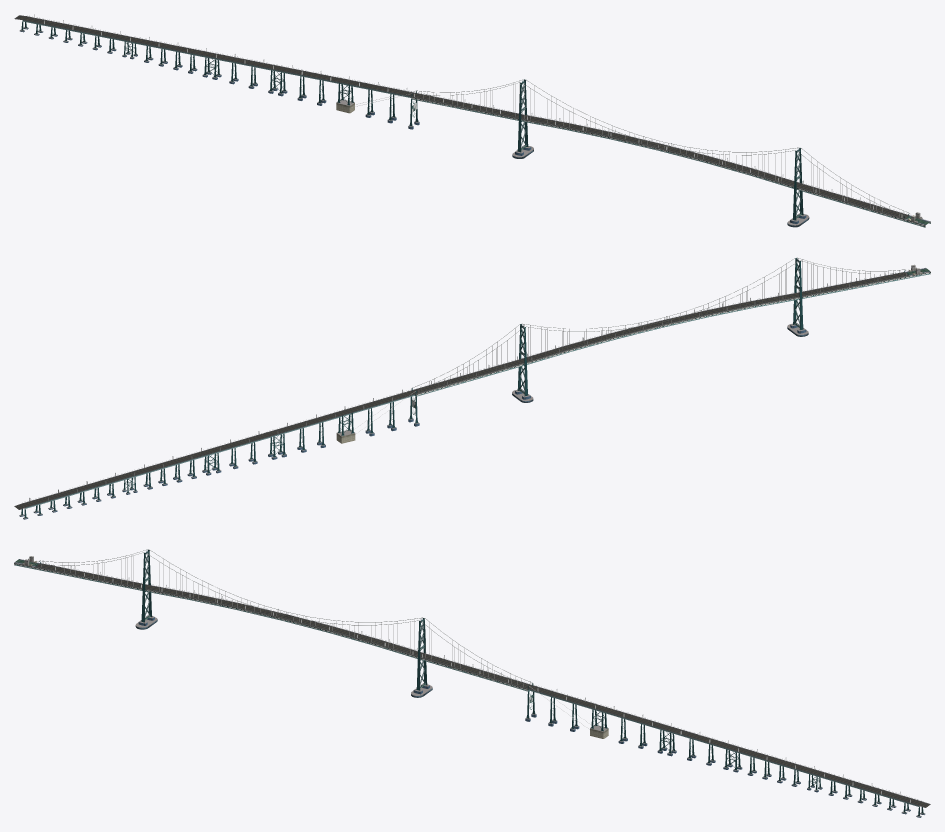
The model's file is bridge1.obj.
3 renders of one model, top to bottom at view 1: azimuth 90°, elevation 25°; view 2: azimuth 150°, elevation 25°; view 3: azimuth 270°, elevation 25°, orthographic.
Parts seen in each view (by area): view 1: Mesh331 Lion_s_Gate_Bridge1 Model, Mesh339 Lion_s_Gate_Bridge1 Model, Mesh197 Component_4_2 Lion_s_Gate_Bridge1 Model, Mesh196 Component_4_1 Lion_s_Gate_Bridge1 Model; view 2: Mesh331 Lion_s_Gate_Bridge1 Model, Mesh339 Lion_s_Gate_Bridge1 Model, Mesh196 Component_4_1 Lion_s_Gate_Bridge1 Model, Mesh197 Component_4_2 Lion_s_Gate_Bridge1 Model; view 3: Mesh331 Lion_s_Gate_Bridge1 Model, Mesh339 Lion_s_Gate_Bridge1 Model, Mesh196 Component_4_1 Lion_s_Gate_Bridge1 Model, Mesh197 Component_4_2 Lion_s_Gate_Bridge1 Model.
Part boxes in pixels (x1,y1,x2,y2): Mesh331 Lion_s_Gate_Bridge1 Model: [14, 14, 415, 97]; Mesh339 Lion_s_Gate_Bridge1 Model: [521, 114, 800, 188]; Mesh197 Component_4_2 Lion_s_Gate_Bridge1 Model: [796, 183, 909, 221]; Mesh196 Component_4_1 Lion_s_Gate_Bridge1 Model: [411, 92, 524, 120]; Mesh331 Lion_s_Gate_Bridge1 Model: [14, 389, 416, 509]; Mesh339 Lion_s_Gate_Bridge1 Model: [520, 293, 799, 364]; Mesh196 Component_4_1 Lion_s_Gate_Bridge1 Model: [412, 359, 524, 396]; Mesh197 Component_4_2 Lion_s_Gate_Bridge1 Model: [796, 272, 909, 298]; Mesh331 Lion_s_Gate_Bridge1 Model: [528, 685, 930, 807]; Mesh339 Lion_s_Gate_Bridge1 Model: [145, 585, 424, 658]; Mesh196 Component_4_1 Lion_s_Gate_Bridge1 Model: [420, 653, 532, 691]; Mesh197 Component_4_2 Lion_s_Gate_Bridge1 Model: [35, 563, 148, 590].
Size of the model in its own units: 31694 by 4777 by 53466.
